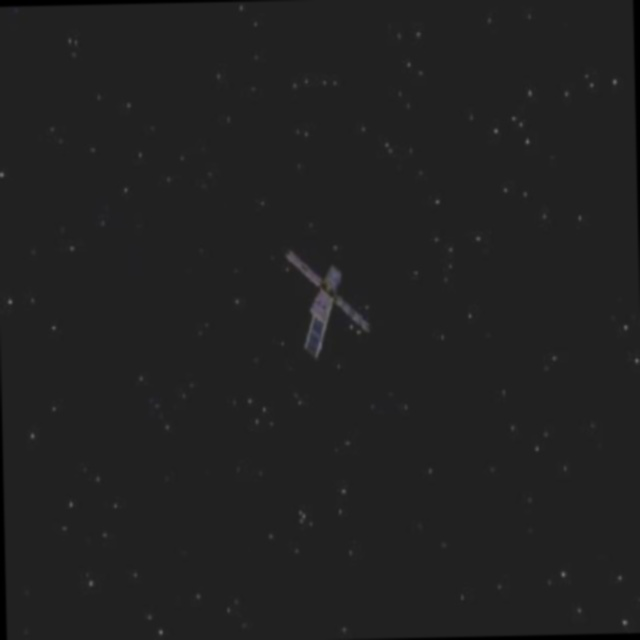medium_debris: (273, 243, 380, 380)
